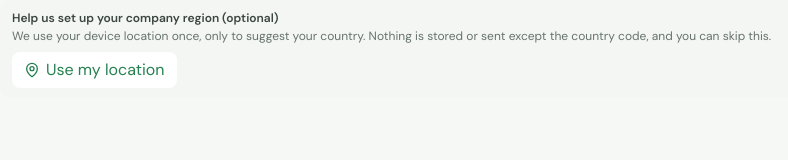
Test: RegionalLocationOptIn › shows a calm message when location is unavailable and stores nothing
Step 1. Click the button "Use my location" → (94, 70), box [12,52,176,88]
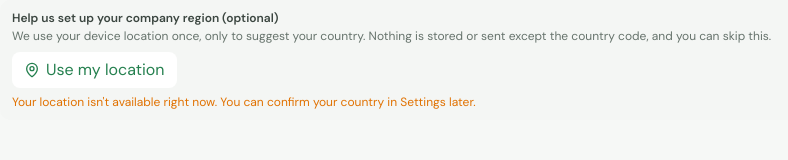
Expected: the text "isn't available" is shown, [12,94,476,110]
